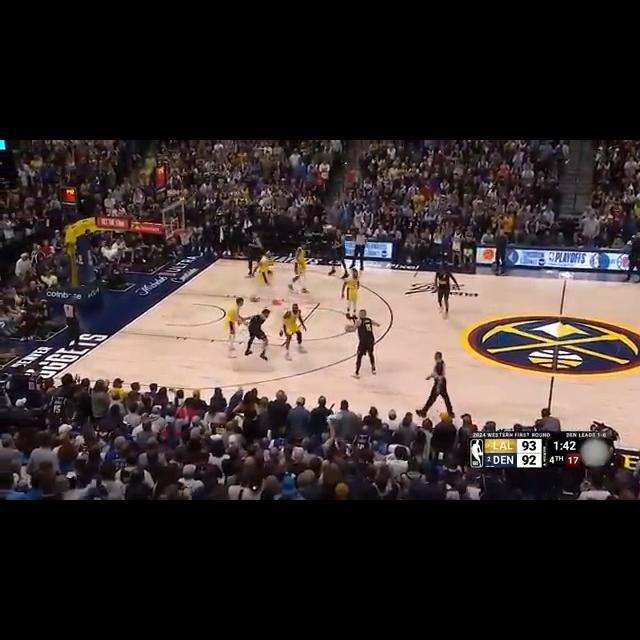hoop: (172, 228, 193, 245)
